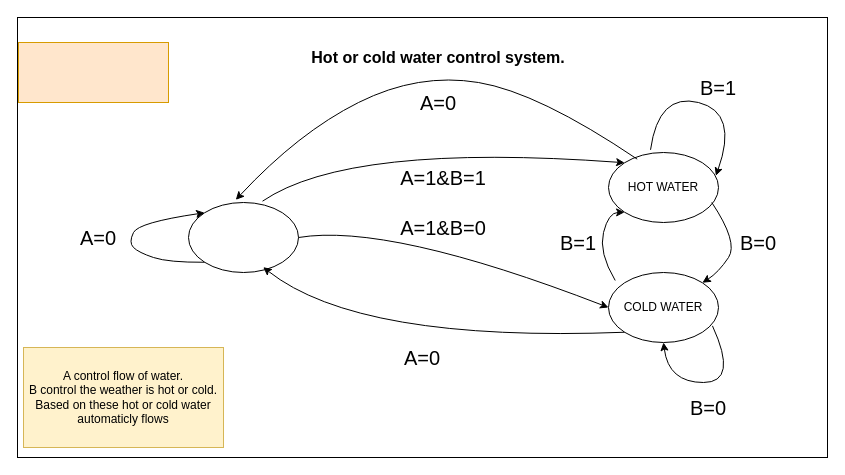
This 845x475 diagram has some shape labels left out. The centre of each missing label's shape, as x and y in pixels:
A:on/off B:hot/cold weather: point 93,72
CONTROL: point 243,237
